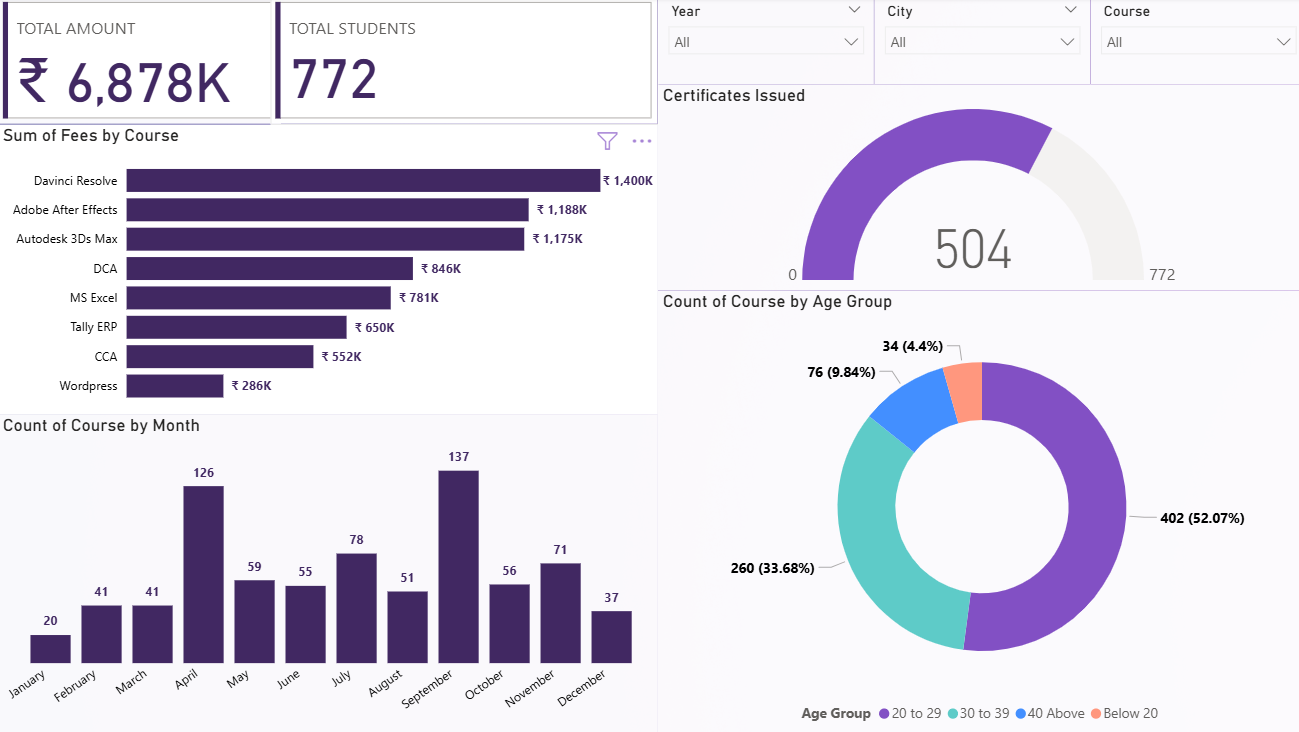

The page's visual inventory and layout, read from the dashboard file:
{"tool":"powerbi","page":{"name":"ABC inst Report","canvas":[1280,720],"ordinal":0},"visuals":[{"type":"clusteredColumnChart","fields":{"Category":["Student Course Details.Date of Join.Variation.Date Hierarchy.Year","Student Course Details.Date of Join.Variation.Date Hierarchy.Quarter","Student Course Details.Date of Join.Variation.Date Hierarchy.Month","Student Course Details.Date of Join.Variation.Date Hierarchy.Day"],"Y":["Student Course Details.Course"]},"box":[0,408.6,645.7,311.4],"z":0},{"type":"donutChart","fields":{"Category":["Student Course Details.Age Group"],"Y":["Student Course Details.Course"]},"box":[645.7,287.1,634.3,432.9],"z":1000},{"type":"clusteredBarChart","fields":{"Category":["Student Course Details.Course"],"Y":["Student Course Details.Fees"]},"box":[0,124.3,645.7,284.3],"z":2000},{"type":"cardVisual","fields":{"Data":["Student Course Details.Fees"]},"box":[0,0,277.1,124.3],"z":3000},{"type":"cardVisual","fields":{"Data":["Student Course Details.Student Name"]},"box":[267.1,0,378.6,124.3],"z":4000},{"type":"gauge","fields":{"Y":["Personal Details.CountYes"]},"box":[645.7,85.7,634.3,201.4],"z":5000},{"type":"slicer","fields":{"Values":["Student Course Details.Date of Join.Variation.Date Hierarchy.Year"]},"box":[645.7,0,211.4,85.7],"z":6000},{"type":"slicer","fields":{"Values":["Personal Details.City"]},"box":[857.1,0,211.4,85.7],"z":7000},{"type":"slicer","fields":{"Values":["Student Course Details.Course"]},"box":[1068.6,0,211.4,85.7],"z":8000}]}

Visuals, with their boxes in screenshot pixels (x1, y1, x2, y2), scaled from the page's 1280x720 canvas onto the 1299x732 screenshot:
clusteredColumnChart - Student Course Details.Date of Join.Variation.Date Hierarchy.Year x Student Course Details.Date of Join.Variation.Date Hierarchy.Quarter: select_region(0, 415, 655, 731)
donutChart - Student Course Details.Age Group x Student Course Details.Course: select_region(655, 292, 1298, 731)
clusteredBarChart - Student Course Details.Course x Student Course Details.Fees: select_region(0, 126, 655, 415)
cardVisual - Student Course Details.Fees: select_region(0, 0, 281, 126)
cardVisual - Student Course Details.Student Name: select_region(271, 0, 655, 126)
gauge - Personal Details.CountYes: select_region(655, 87, 1298, 292)
slicer - Student Course Details.Date of Join.Variation.Date Hierarchy.Year: select_region(655, 0, 870, 87)
slicer - Personal Details.City: select_region(870, 0, 1084, 87)
slicer - Student Course Details.Course: select_region(1084, 0, 1298, 87)
